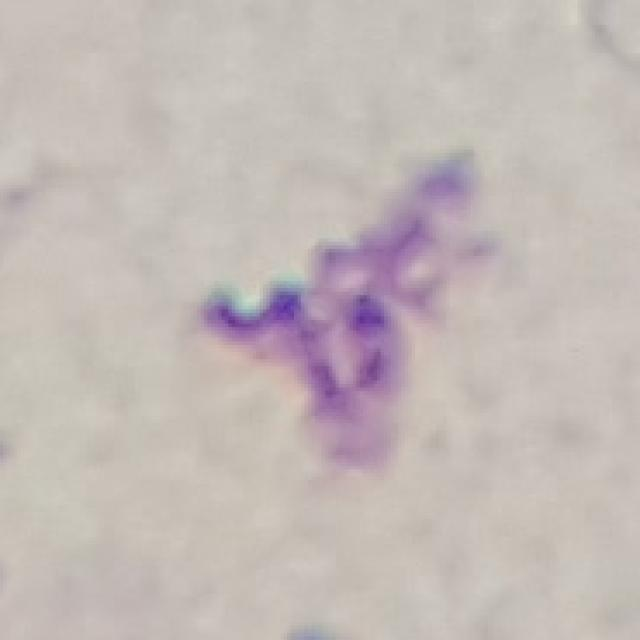non-sperm: (208, 154, 478, 456)
